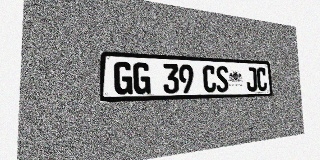3: (163, 63, 179, 94)
9: (179, 64, 194, 93)
C: (203, 65, 216, 93), (256, 67, 267, 91)
G: (114, 61, 132, 95), (133, 62, 150, 94)
J: (246, 67, 257, 91)
S: (216, 66, 229, 92)
